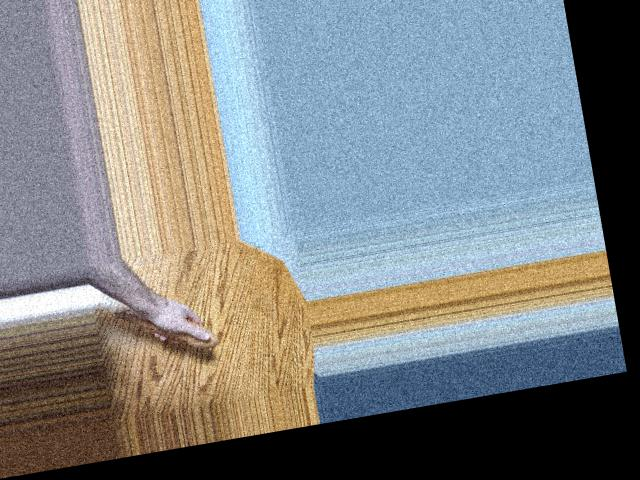sweet_potato: (110, 291, 214, 361)
